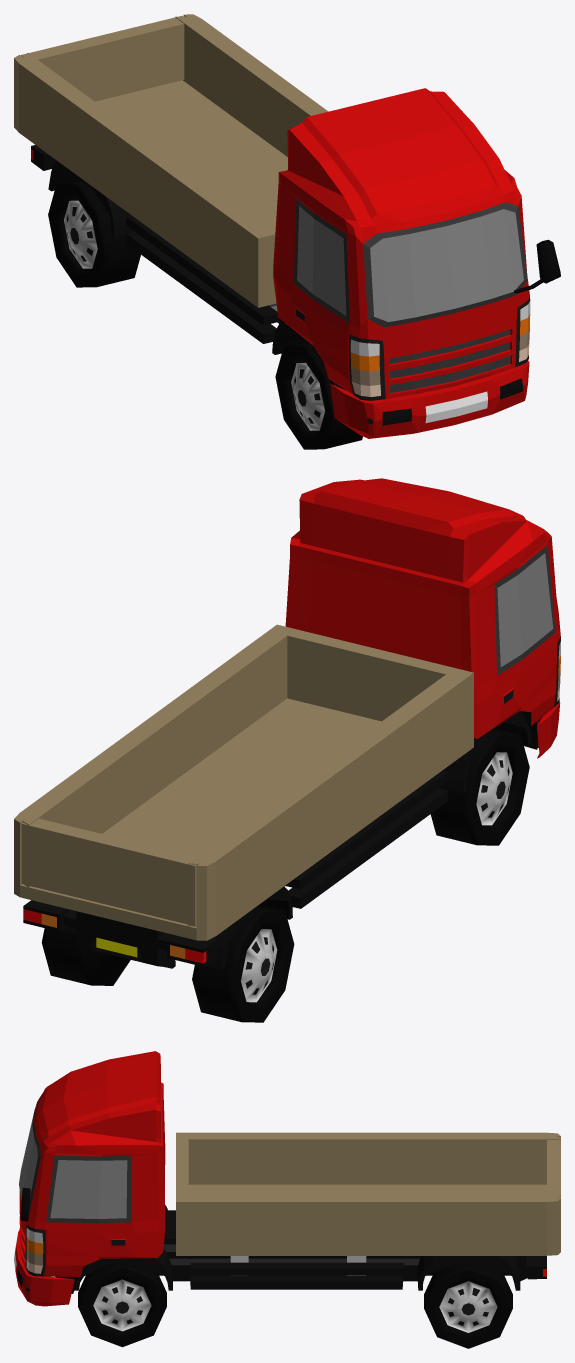
The picture shows the model from 3 angles, top to bottom: view 1: azimuth 30°, elevation 25°; view 2: azimuth 150°, elevation 25°; view 3: azimuth 270°, elevation 25°; orthographic projection. The views are drawn at different scales.
Parts seen in each view (by area): view 1: LobbyFront, LobbyBack, LobbyBar, Lobbybottom, WheelRightBack.001, WheelRightFront, Mirror; view 2: LobbyBack, LobbyFront, Lobbybottom, WheelRightBack.001, WheelRightFront, WheelRightBack, LobbyBar; view 3: LobbyBack, LobbyFront, Lobbybottom, WheelRightBack, WheelLeftFront, LobbyBar.
Boxes of the visible parts, x1,y1,x2,y2 form: LobbyFront: [273, 88, 530, 400]; LobbyBack: [14, 14, 328, 307]; LobbyBar: [330, 360, 529, 438]; Lobbybottom: [31, 145, 345, 390]; WheelRightBack.001: [48, 178, 140, 287]; WheelRightFront: [275, 340, 362, 449]; Mirror: [514, 239, 560, 293]; LobbyBack: [14, 624, 473, 940]; LobbyFront: [285, 478, 560, 738]; Lobbybottom: [23, 711, 537, 969]; WheelRightBack.001: [192, 905, 294, 1022]; WheelRightFront: [430, 728, 529, 845]; WheelRightBack: [41, 928, 130, 985]; LobbyBar: [537, 702, 560, 758]; LobbyBack: [176, 1132, 560, 1255]; LobbyFront: [18, 1051, 165, 1277]; Lobbybottom: [55, 1205, 546, 1293]; WheelRightBack: [424, 1264, 512, 1348]; WheelLeftFront: [78, 1260, 166, 1347]; LobbyBar: [14, 1230, 74, 1306].
Size of the model in its own units: 3.84 by 5.62 by 11.56.
Materials: 1 (1 with a texture image).
